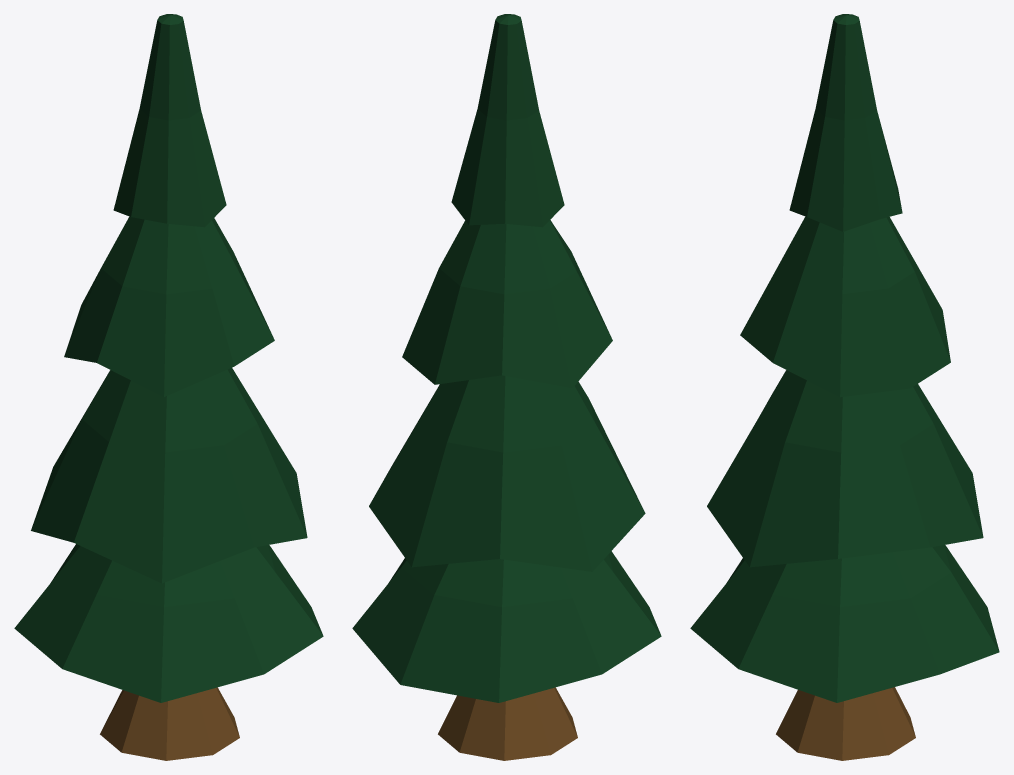
Rendered from Tree 4.fbx.
The picture shows the model from 3 angles, left to right: view 1: azimuth 30°, elevation 25°; view 2: azimuth 150°, elevation 25°; view 3: azimuth 270°, elevation 25°; orthographic projection.
Parts seen in each view (by area): view 1: Tree_4; view 2: Tree_4; view 3: Tree_4.
Part boxes in pixels (left/top/right/bottom): Tree_4: left=14, top=14, right=323, bottom=760; Tree_4: left=352, top=14, right=661, bottom=760; Tree_4: left=690, top=14, right=999, bottom=760.
Bounding box in the file's own units: 1.85 × 1.86 × 4.76.
